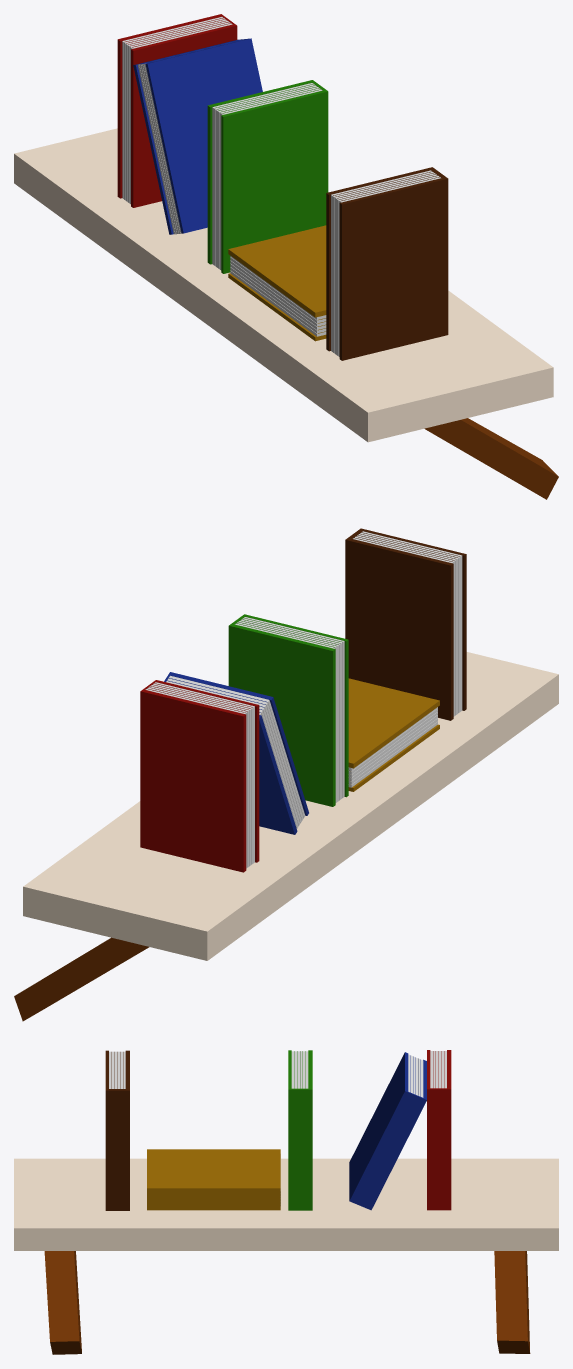
Rendered from Shelf2.0.fbx.
The picture shows the model from 3 angles, top to bottom: view 1: azimuth 30°, elevation 25°; view 2: azimuth 150°, elevation 25°; view 3: azimuth 270°, elevation 25°; orthographic projection. The views are drawn at different scales.
Visible parts, largest first — view 1: Cube.001, Book5, Book3, Book2, Book1, Book4, Cube.002, Book1.004, Book1.001, Book1.008, Book1.006, Book1.002; view 2: Cube.001, Book1, Book5, Book3, Book4, Book2, Cube.002, Book1.004, Book1.008, Book1.001, Book1.002, Book1.006; view 3: Cube.001, Book4, Cube.002, Book2, Book3, Book1, Book5, Book1.004, Book1.001, Book1.008, Book1.002.
Part boxes in pixels (left/top/right/bottom): Cube.001: left=14, top=128, right=553, bottom=442; Book5: left=326, top=167, right=448, bottom=360; Book3: left=207, top=80, right=328, bottom=273; Book2: left=133, top=38, right=262, bottom=234; Book1: left=117, top=14, right=237, bottom=207; Book4: left=228, top=225, right=326, bottom=341; Cube.002: left=424, top=418, right=558, bottom=499; Book1.004: left=212, top=83, right=322, bottom=270; Book1.001: left=122, top=17, right=232, bottom=204; Book1.008: left=331, top=170, right=440, bottom=356; Book1.006: left=230, top=256, right=326, bottom=336; Book1.002: left=138, top=63, right=181, bottom=234; Cube.001: left=23, top=652, right=558, bottom=960; Book1: left=140, top=680, right=259, bottom=872; Book5: left=345, top=528, right=466, bottom=720; Book3: left=228, top=614, right=348, bottom=806; Book4: left=348, top=678, right=439, bottom=791; Book2: left=164, top=672, right=308, bottom=834; Cube.002: left=14, top=937, right=149, bottom=1021; Book1.004: left=235, top=617, right=344, bottom=802; Book1.008: left=353, top=531, right=462, bottom=716; Book1.001: left=145, top=682, right=254, bottom=868; Book1.002: left=166, top=675, right=305, bottom=828; Book1.006: left=348, top=707, right=437, bottom=787; Cube.001: left=14, top=1158, right=558, bottom=1250; Book4: left=147, top=1149, right=280, bottom=1210; Cube.002: left=44, top=1251, right=530, bottom=1354; Book2: left=349, top=1052, right=426, bottom=1210; Book3: left=288, top=1050, right=312, bottom=1210; Book1: left=427, top=1050, right=451, bottom=1210; Book5: left=105, top=1050, right=129, bottom=1210; Book1.004: left=291, top=1051, right=308, bottom=1088; Book1.001: left=430, top=1051, right=446, bottom=1088; Book1.008: left=109, top=1051, right=125, bottom=1088; Book1.002: left=408, top=1054, right=423, bottom=1097.
Size of the model in its own units: 457 by 629 by 1292.
